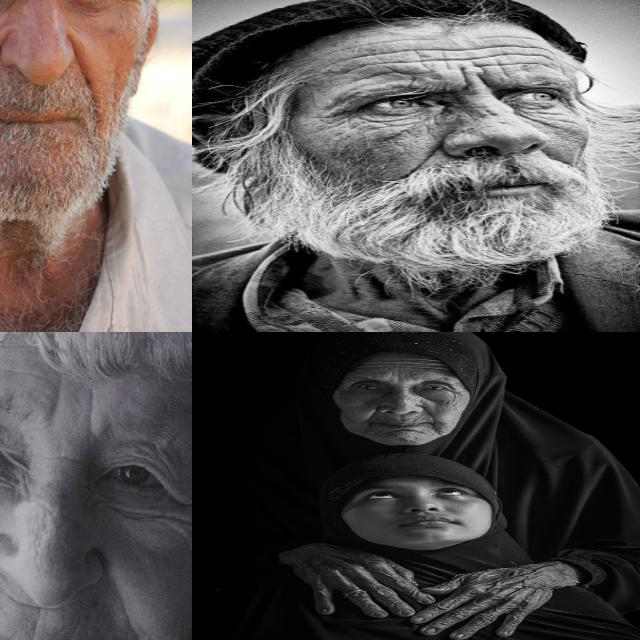chin: (388, 427, 425, 433)
crows_feet: (172, 487, 192, 537), (324, 107, 364, 123), (448, 387, 466, 400), (111, 0, 136, 8)
forehead: (412, 40, 459, 76), (352, 44, 401, 75), (514, 39, 553, 70), (468, 38, 507, 68), (424, 358, 450, 374), (396, 358, 423, 371), (362, 359, 388, 372)
frown_line: (47, 380, 63, 430), (82, 394, 100, 438), (454, 73, 494, 90), (49, 450, 85, 468), (393, 381, 410, 393)
gummy_smile: (102, 564, 140, 630), (70, 38, 94, 110), (406, 146, 442, 175), (420, 405, 440, 419), (362, 407, 380, 420)
masseter: (381, 117, 427, 136), (519, 110, 571, 126)
sad_smile: (363, 421, 379, 435), (428, 422, 444, 434)
smoker_lines: (4, 594, 76, 614)
